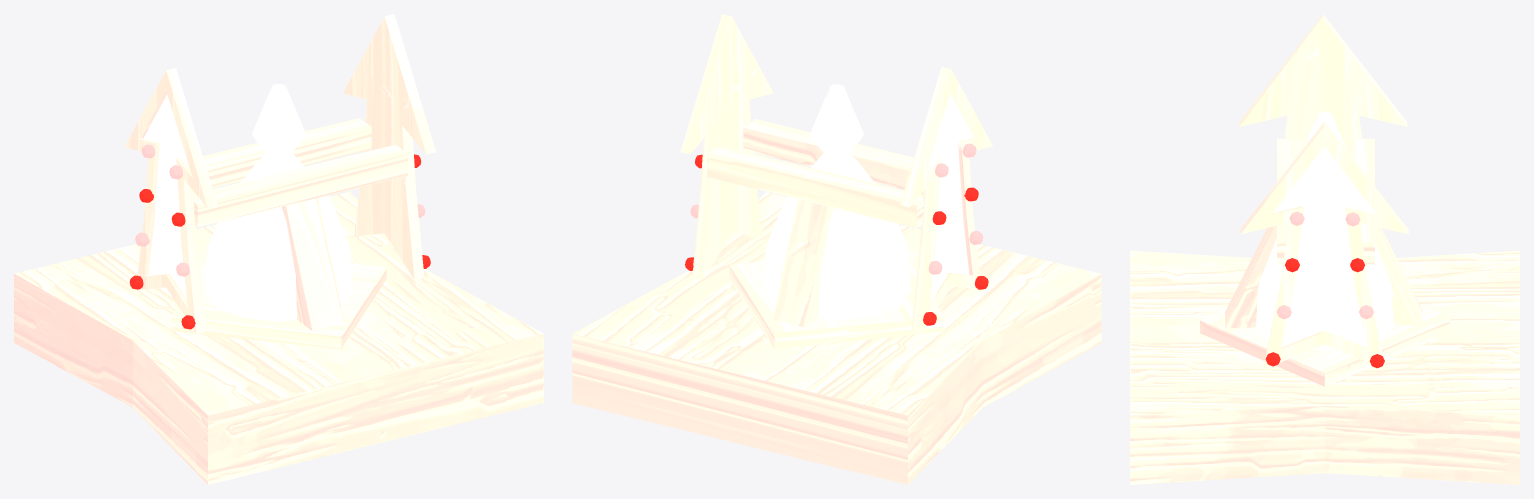
Rendered from GameReadyLaserBase.glb.
The picture shows the model from 3 angles, left to right: view 1: azimuth 30°, elevation 25°; view 2: azimuth 150°, elevation 25°; view 3: azimuth 270°, elevation 25°; orthographic projection.
Visible parts, largest first — view 1: Laserbase, Laserbase.001, Laserbase.013, Laserbase.004, Laserbase.023, Laserbase.002, Laserbase.021, Laserbase.024; view 2: Laserbase, Laserbase.001, Laserbase.013, Laserbase.004, Laserbase.024, Laserbase.002, Laserbase.022, Laserbase.023; view 3: Laserbase, Laserbase.004, Laserbase.013, Laserbase.002, Laserbase.001, Laserbase.021, Laserbase.022, Laserbase.024, Laserbase.023.
Boxes of the visible parts, x1,y1,x2,y2 form: Laserbase: [14, 192, 543, 484]; Laserbase.001: [205, 84, 352, 321]; Laserbase.013: [124, 68, 217, 334]; Laserbase.004: [343, 14, 435, 280]; Laserbase.023: [193, 144, 407, 227]; Laserbase.002: [171, 258, 386, 349]; Laserbase.021: [282, 198, 344, 331]; Laserbase.024: [203, 118, 371, 187]; Laserbase: [572, 192, 1101, 484]; Laserbase.001: [763, 84, 910, 319]; Laserbase.013: [900, 67, 992, 332]; Laserbase.004: [680, 14, 773, 279]; Laserbase.024: [707, 145, 923, 227]; Laserbase.002: [729, 261, 944, 349]; Laserbase.022: [772, 199, 833, 327]; Laserbase.023: [743, 119, 922, 193]; Laserbase: [1130, 250, 1519, 484]; Laserbase.004: [1240, 121, 1408, 369]; Laserbase.013: [1239, 14, 1407, 153]; Laserbase.002: [1200, 305, 1449, 386]; Laserbase.001: [1256, 112, 1393, 350]; Laserbase.021: [1225, 226, 1276, 327]; Laserbase.022: [1375, 226, 1422, 325]; Laserbase.024: [1350, 138, 1374, 264]; Laserbase.023: [1277, 138, 1301, 264].
Bounding box in the file's own units: 3.42 × 3.23 × 3.42.
Materials: 2 (2 with a texture image).
